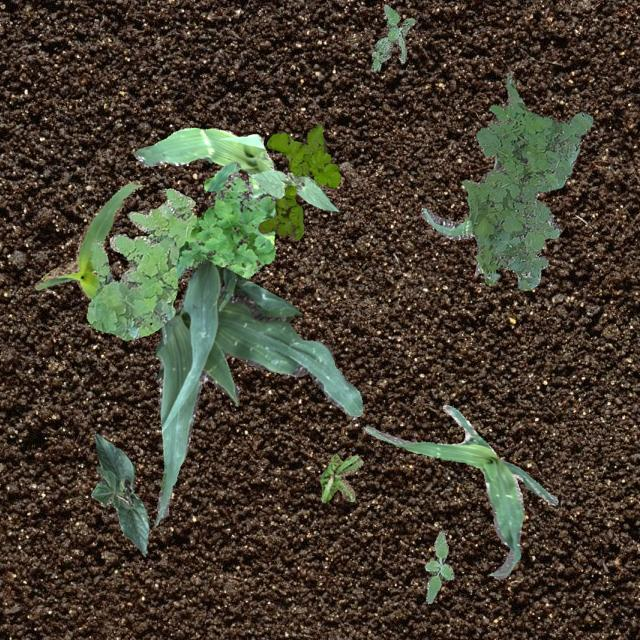crop: (154, 258, 362, 524), (363, 403, 558, 578), (34, 180, 140, 300), (133, 126, 274, 216), (90, 432, 148, 556), (420, 207, 482, 273), (250, 170, 338, 212)
weed: (459, 72, 592, 290), (86, 188, 196, 340), (142, 160, 276, 282), (256, 123, 340, 240), (370, 4, 414, 70), (423, 530, 452, 602), (319, 454, 362, 502)
